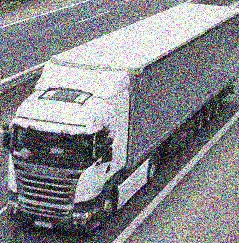truck: (2, 4, 239, 243)
